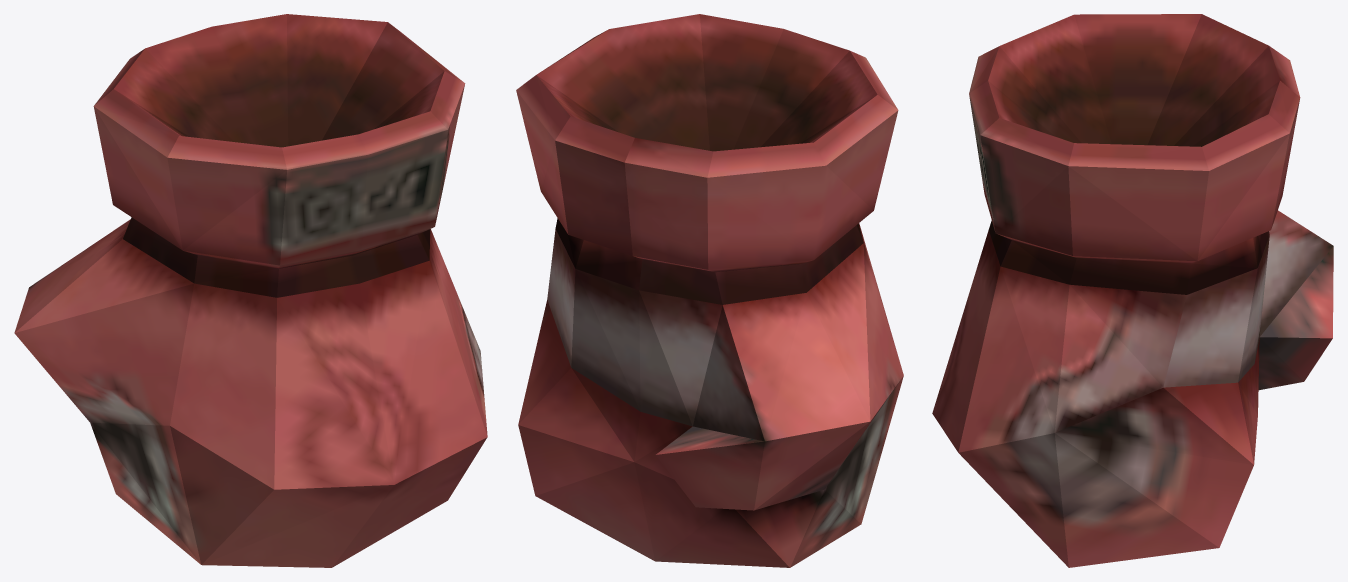
Rendered from Panda_boxingGrove_right.obj.
3 renders of one model, left to right at view 1: azimuth 30°, elevation 25°; view 2: azimuth 150°, elevation 25°; view 3: azimuth 270°, elevation 25°, orthographic.
Parts seen in each view (by area): view 1: Panda_boxingGrove_tri [right]; view 2: Panda_boxingGrove_tri [right]; view 3: Panda_boxingGrove_tri [right].
Part boxes in pixels (bbox=[...]): Panda_boxingGrove_tri [right]: bbox=[14, 14, 487, 567]; Panda_boxingGrove_tri [right]: bbox=[516, 14, 903, 567]; Panda_boxingGrove_tri [right]: bbox=[932, 14, 1333, 567].
Bounding box in the file's own units: 0.2195 × 0.2609 × 0.2075.
Materials: 1 (1 with a texture image).
